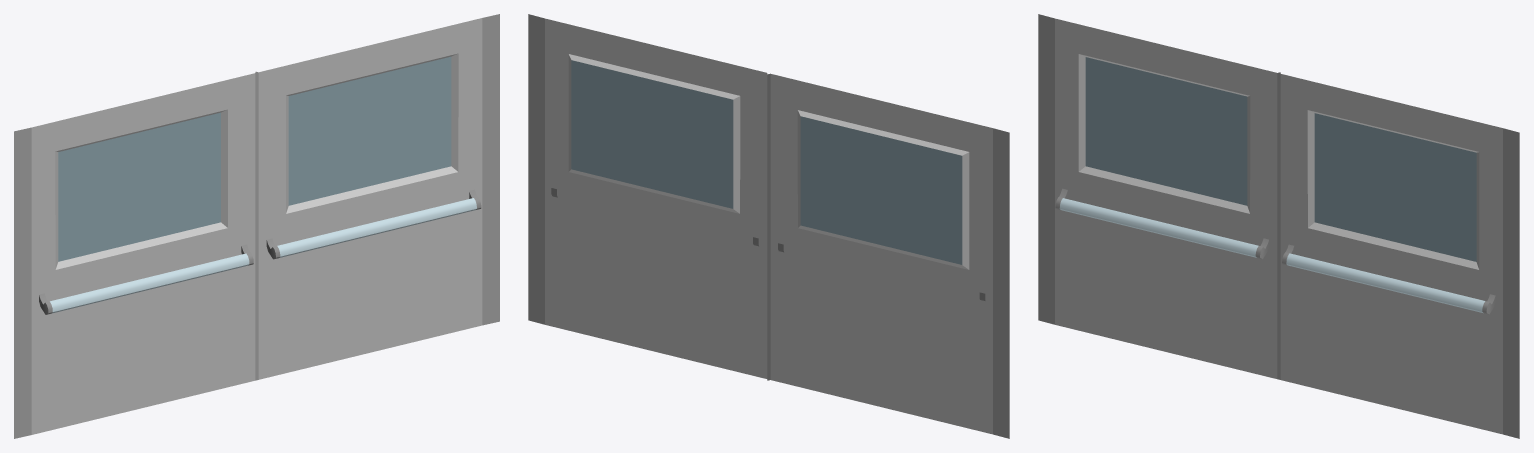
File: Double Door.fbx
3 views of the same model, side by side, from view 1: azimuth 30°, elevation 25°; view 2: azimuth 150°, elevation 25°; view 3: azimuth 330°, elevation 25° (orthographic).
Parts seen in each view (by area): view 1: Door, Door handle; view 2: Door; view 3: Door, Door handle.
Part boxes in pixels (bbox=[...]): Door: bbox=[14, 14, 499, 438]; Door handle: bbox=[39, 189, 481, 314]; Door: bbox=[528, 14, 1009, 438]; Door: bbox=[1038, 14, 1519, 438]; Door handle: bbox=[1055, 188, 1495, 314].
Size of the model in its own units: 513 by 311 by 18.82.
